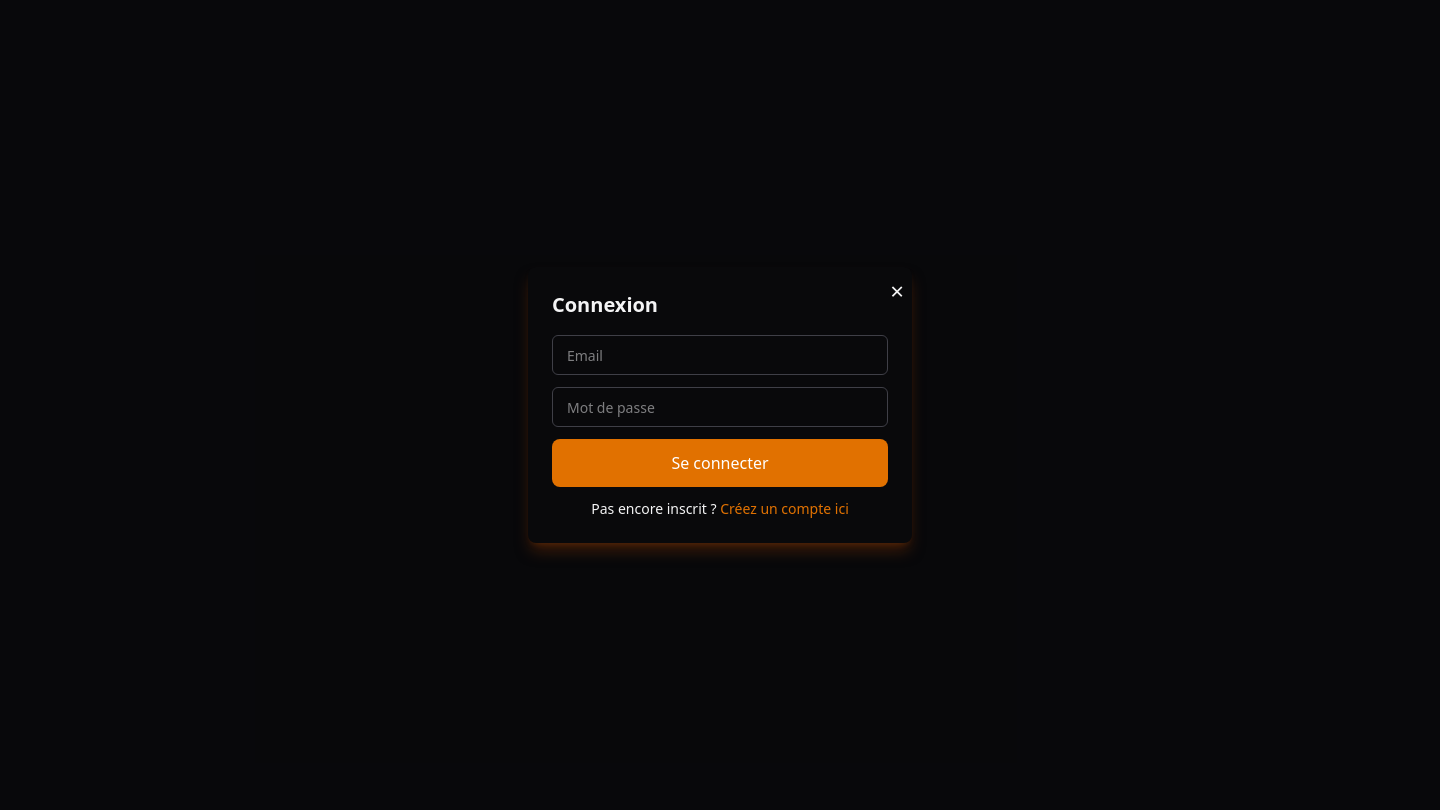
Test: LoginPage › shows loading state while submitting
Type "user@test.com" into the field with placeholder "Email".
click(720, 355); type("user@test.com")  # box left=552, top=335, right=888, bottom=375
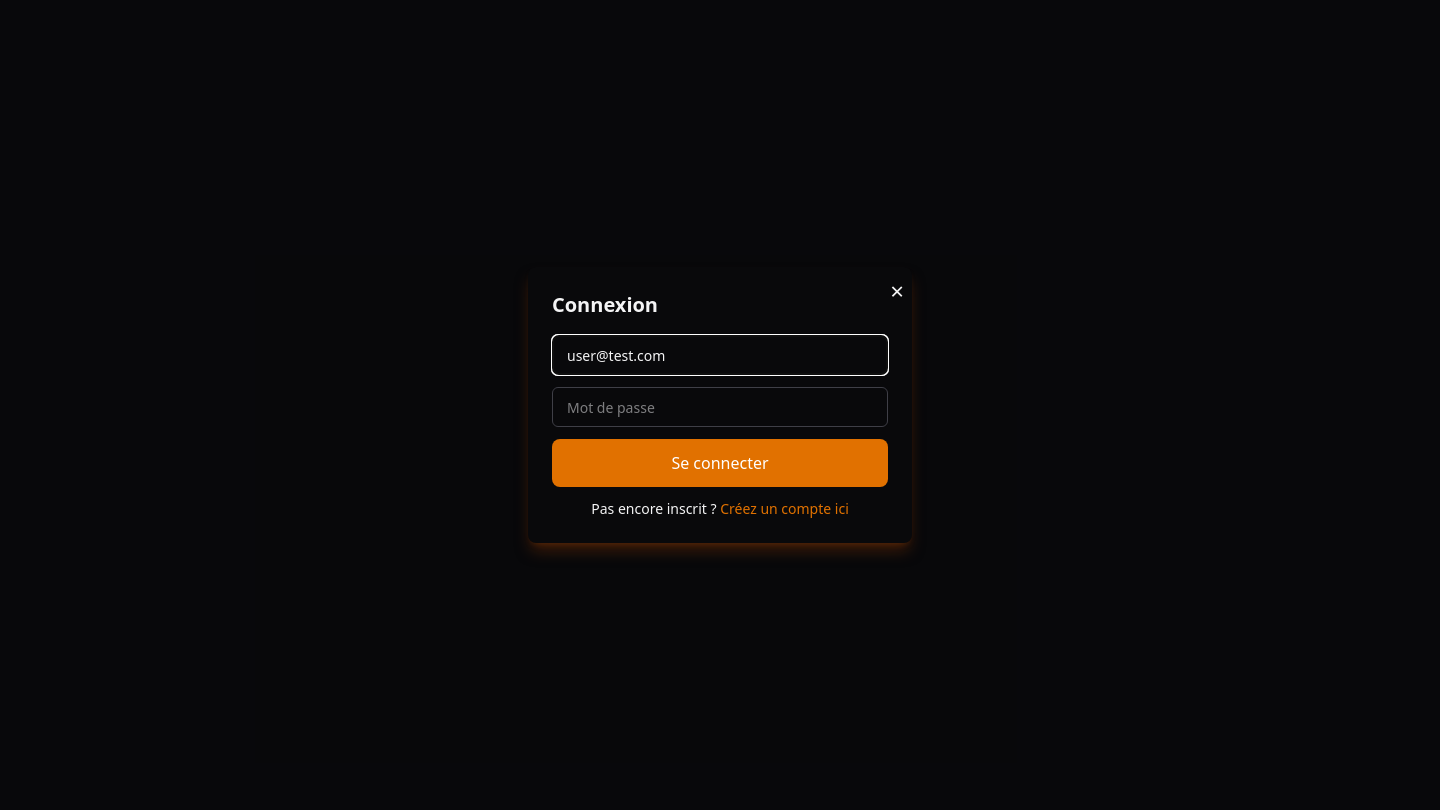
Type "password" into the password field with placeholder "Mot de passe".
click(720, 407); type("password")  # box left=552, top=387, right=888, bottom=427
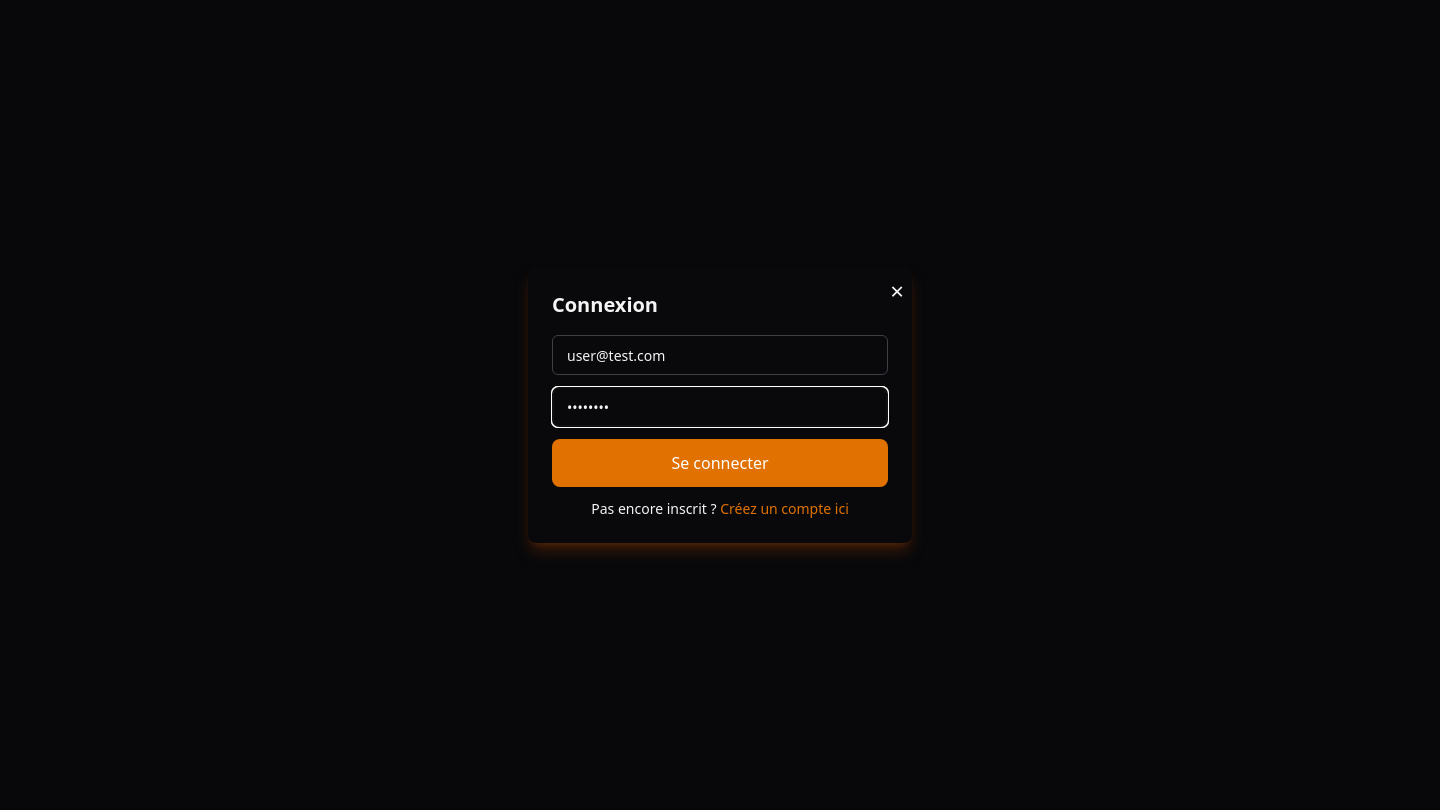
Click the button "Se connecter".
click(720, 463)  # box left=552, top=439, right=888, bottom=487
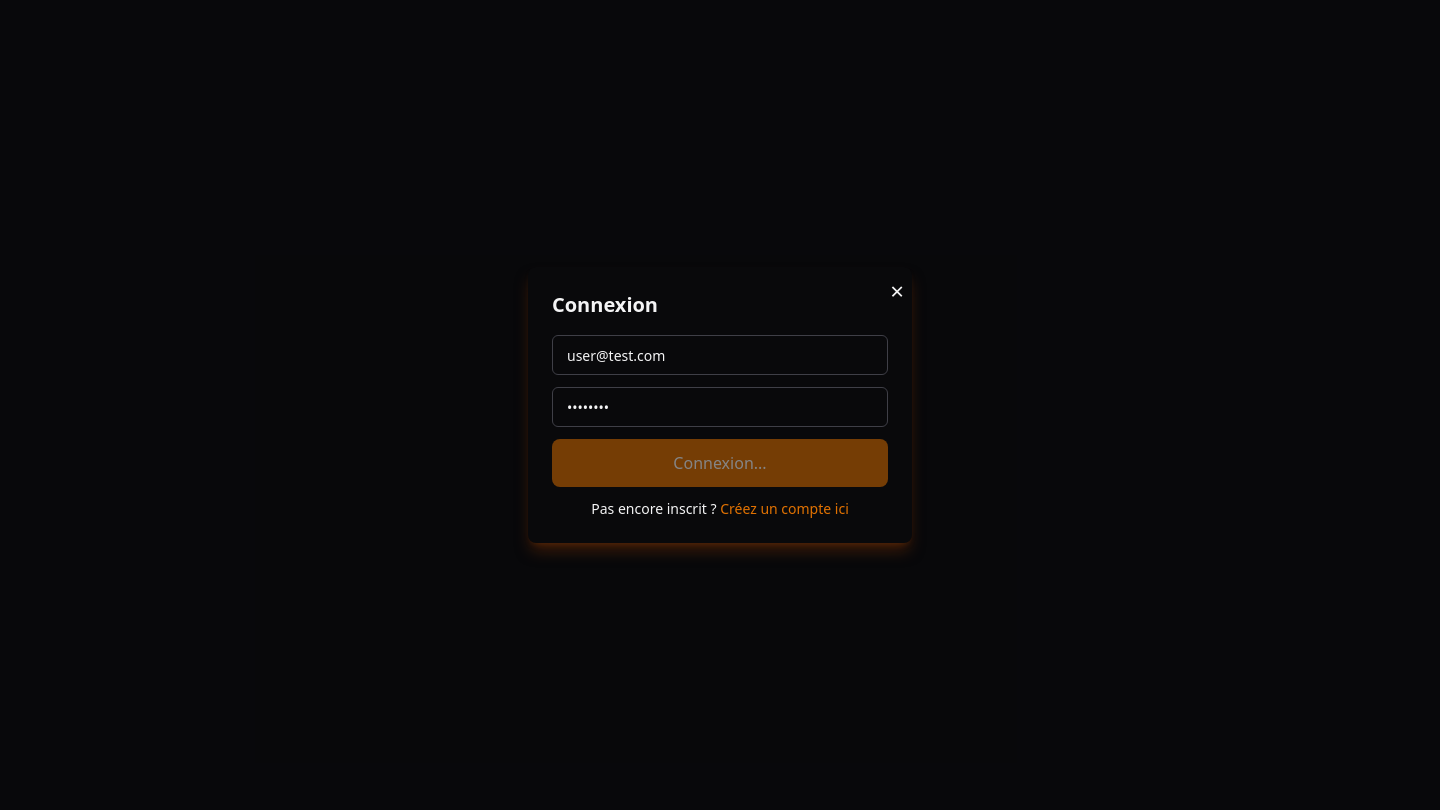
Result: the button "Connexion..." is shown at left=552, top=439, right=888, bottom=487
